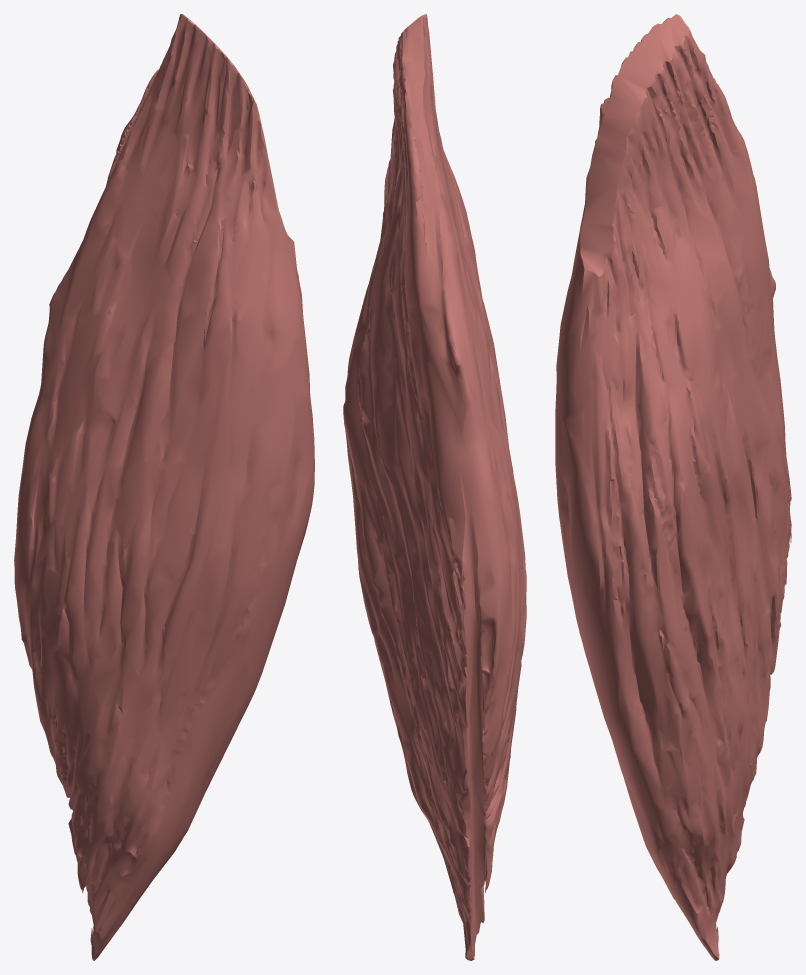
Rendered from fma22425.glb.
The picture shows the model from 3 angles, left to right: view 1: azimuth 30°, elevation 25°; view 2: azimuth 150°, elevation 25°; view 3: azimuth 270°, elevation 25°; orthographic projection. The views are drawn at different scales.
Parts seen in each view (by area): view 1: FMA22425; view 2: FMA22425; view 3: FMA22425.
Part boxes in pixels (x1,y1,x2,y2): FMA22425: (14,14,314,960); FMA22425: (343,14,526,960); FMA22425: (555,14,791,960).
Bounding box in the file's own units: 0.0379 × 0.1563 × 0.0341.
